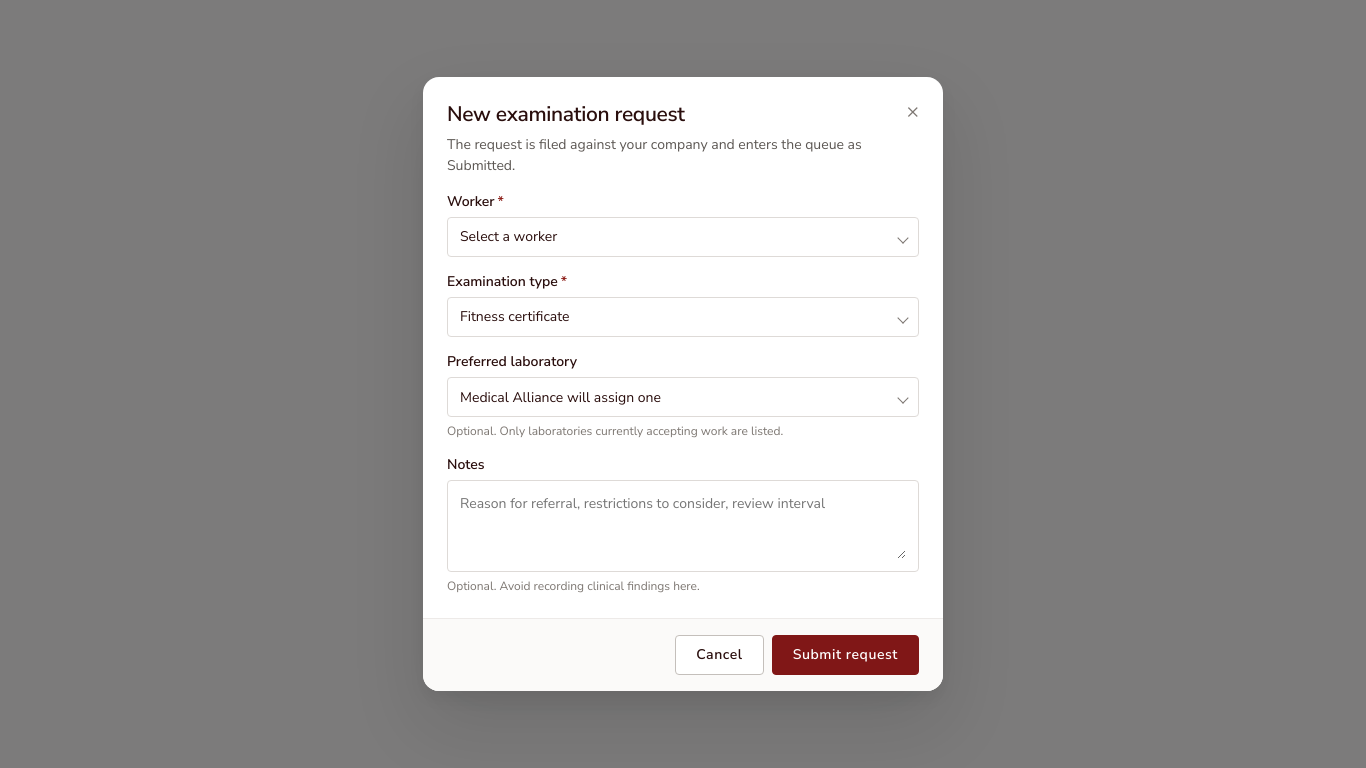
Test: NewRequestModal submission › validates that a worker is chosen before submitting
The width and height of the screenshot is (1366, 768).
Click the button "Submit request" at (845, 655), box [772, 635, 919, 675]
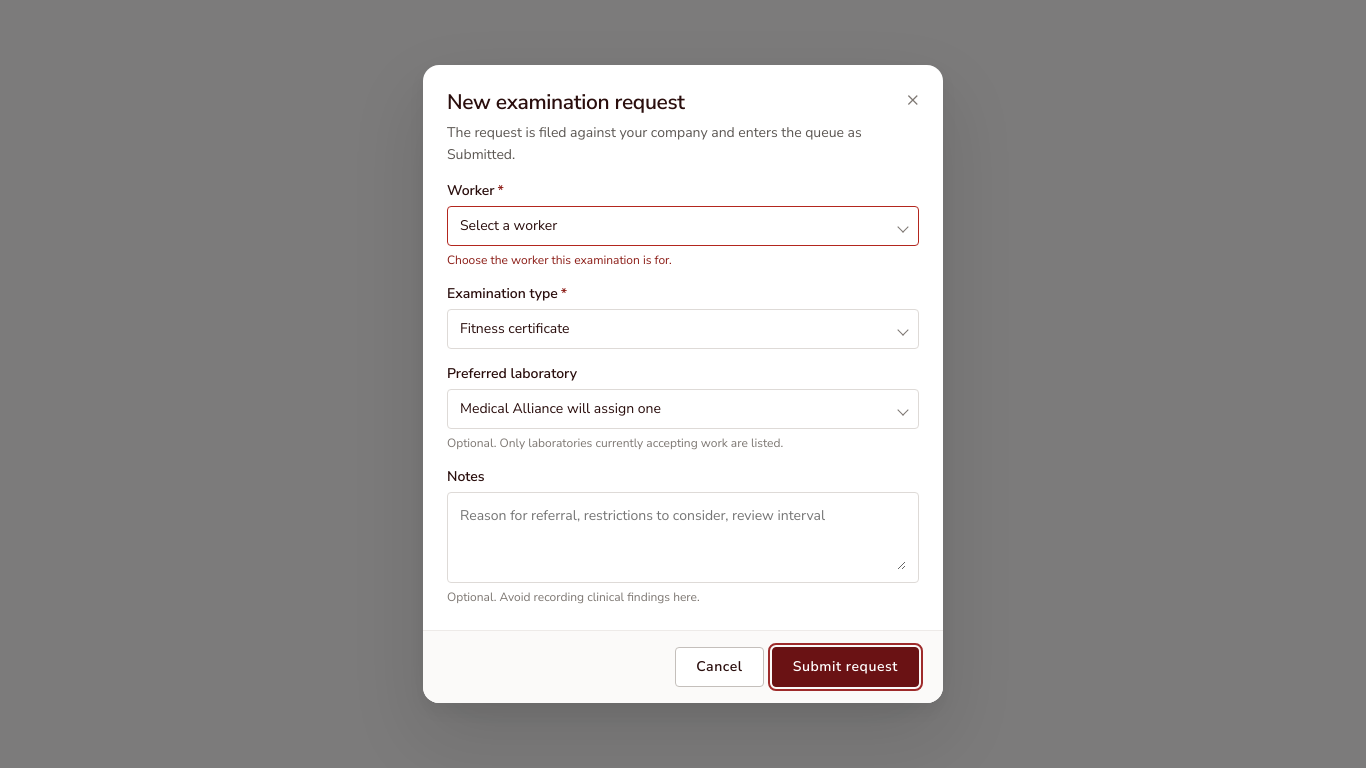
Result: the text "Choose the worker this examination is for." is shown at [447, 252, 672, 268]
